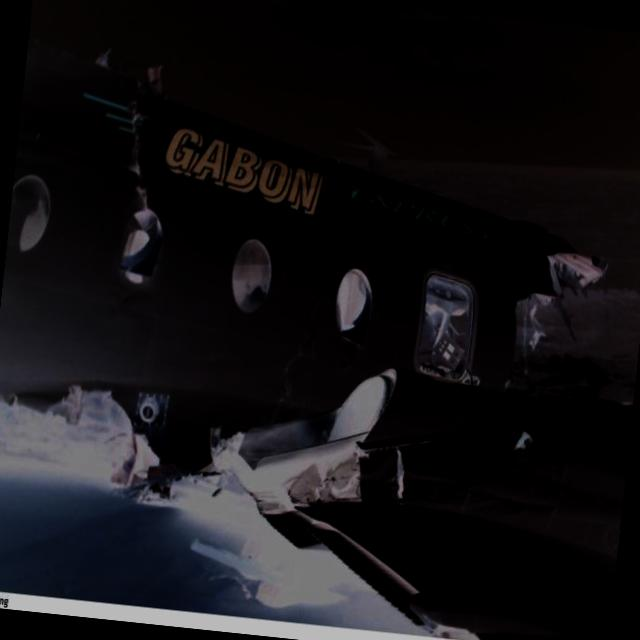crack: (116, 92, 164, 212), (269, 317, 319, 428), (390, 446, 410, 496)
